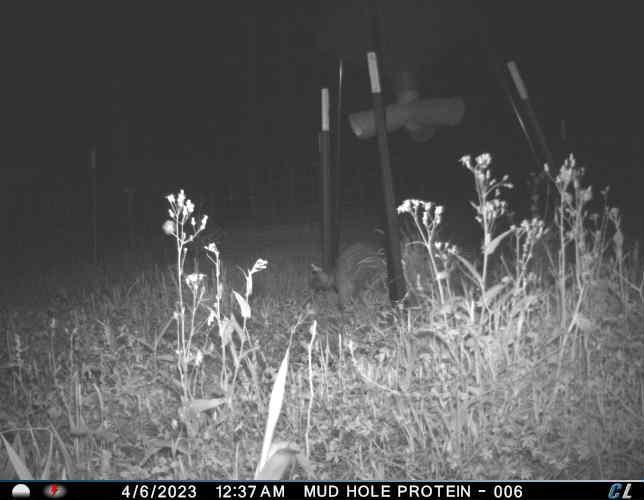Raccoon: (309, 241, 390, 317)
